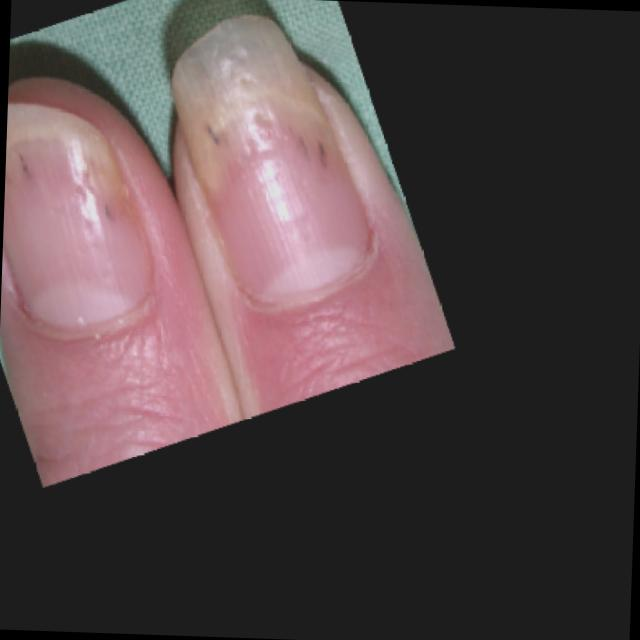Nail: (171, 14, 371, 298), (3, 103, 152, 327)
